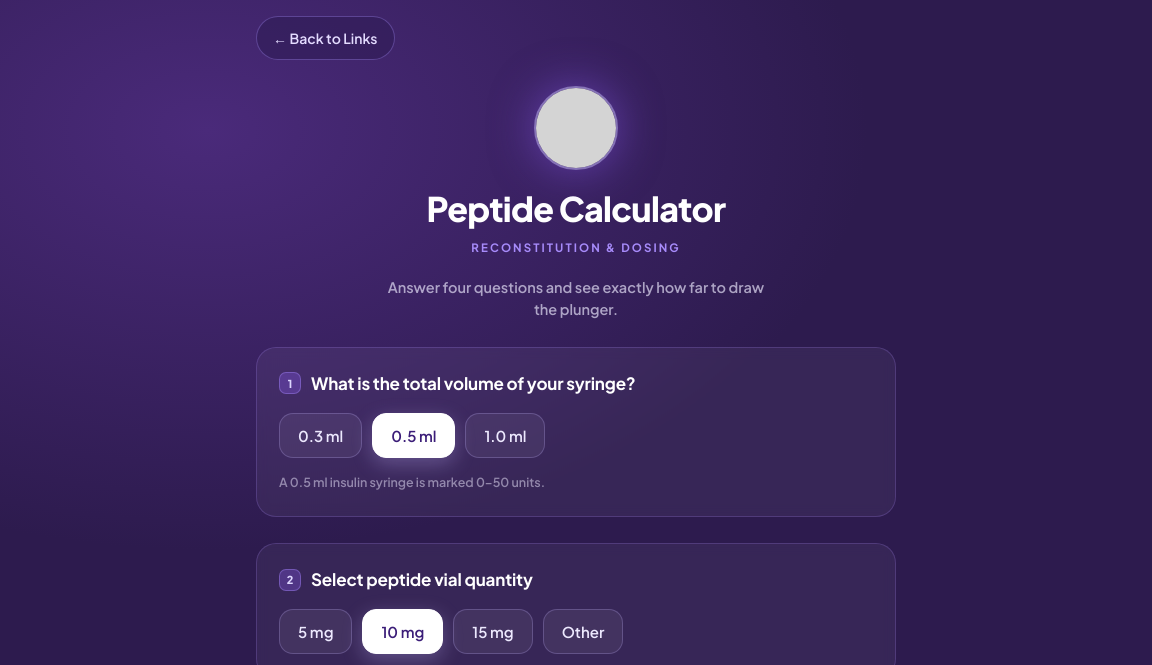
Scenario: PeptideCalculator — custom amounts › calculates from a hand-typed vial size
Click the radio button with aria-label "other vial size" at (583, 632), box [543,609,623,654]
(page scrolled)
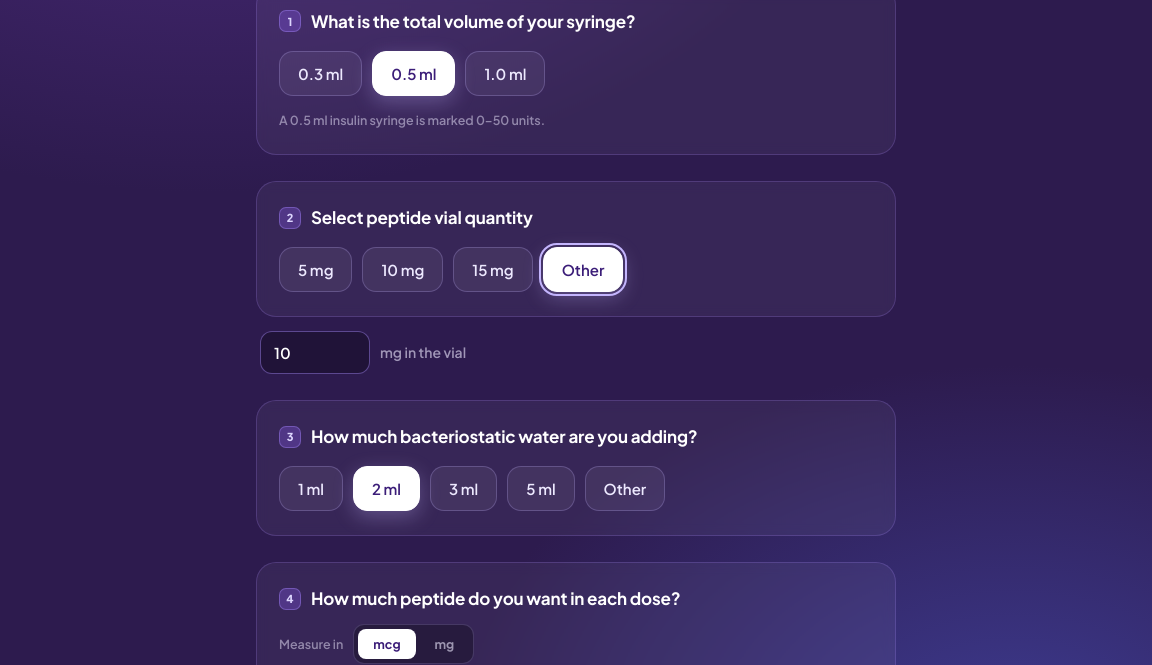
Replace the text in the number field labelled "mg in the vial" with "20" at (315, 353), box [260,331,370,374]
(page scrolled)
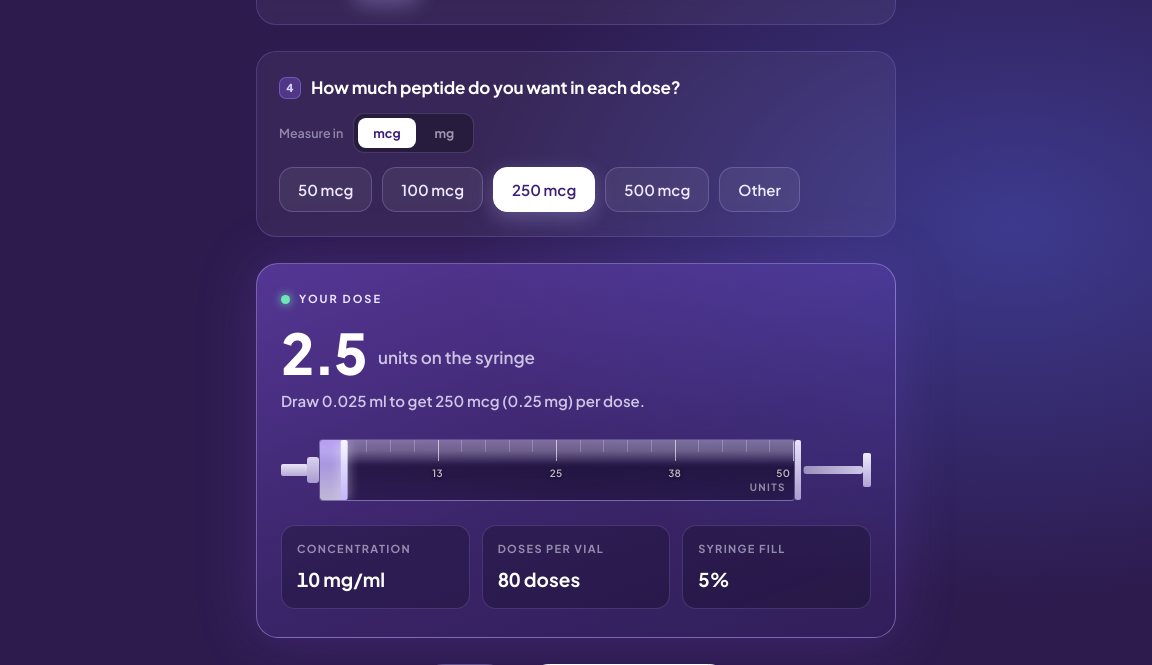
Now the text "2.5" is shown, box [281,326,366,379]
